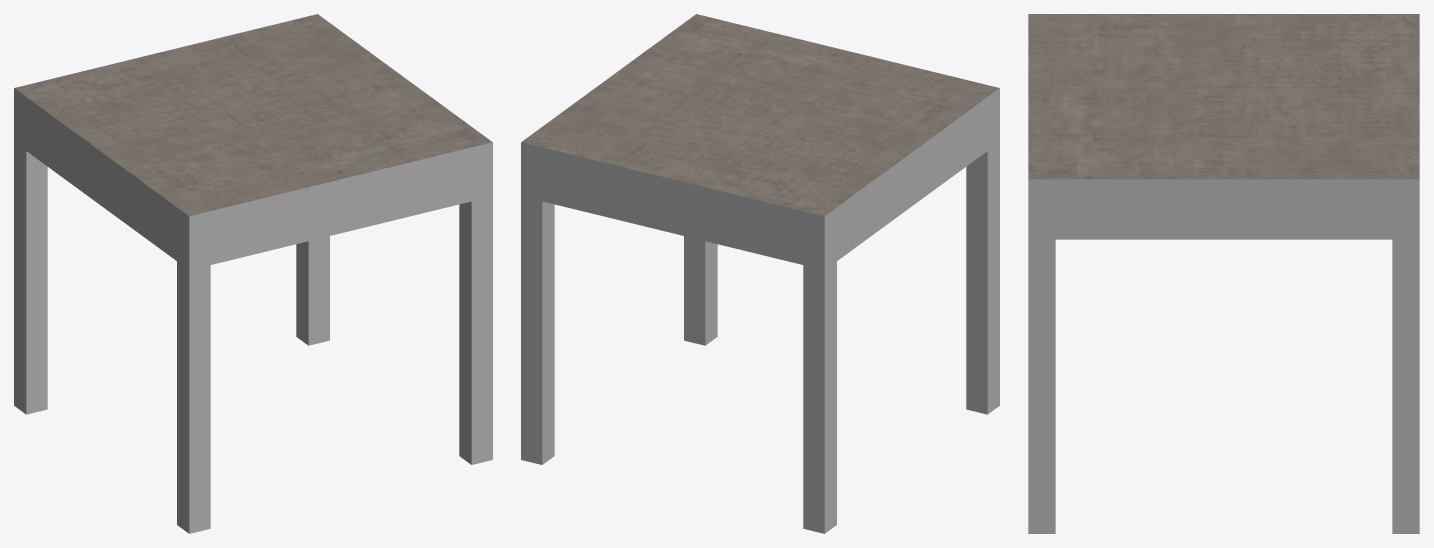
Rendered from wallB_open.fbx.
3 views of the same model, side by side, from view 1: azimuth 30°, elevation 25°; view 2: azimuth 150°, elevation 25°; view 3: azimuth 270°, elevation 25° (orthographic). The views are drawn at different scales.
Visible parts, largest first — view 1: wallB_open; view 2: wallB_open; view 3: wallB_open.
Part boxes in pixels (bbox=[...]): wallB_open: bbox=[14, 14, 492, 533]; wallB_open: bbox=[521, 14, 999, 533]; wallB_open: bbox=[1028, 14, 1419, 533].
Size of the model in its own units: 10 by 10 by 10.
